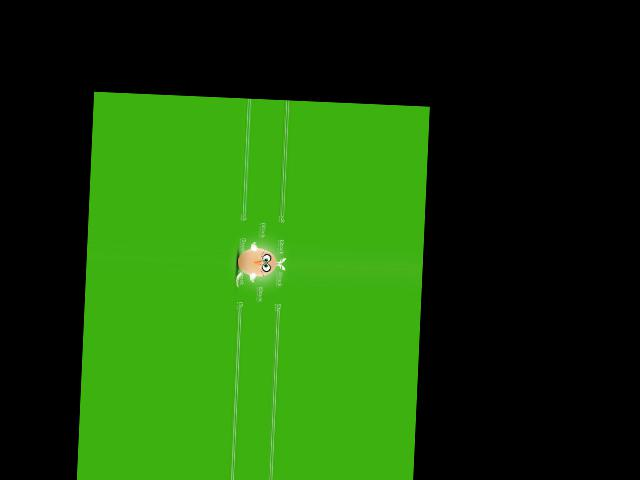egg: (236, 248, 276, 277)
